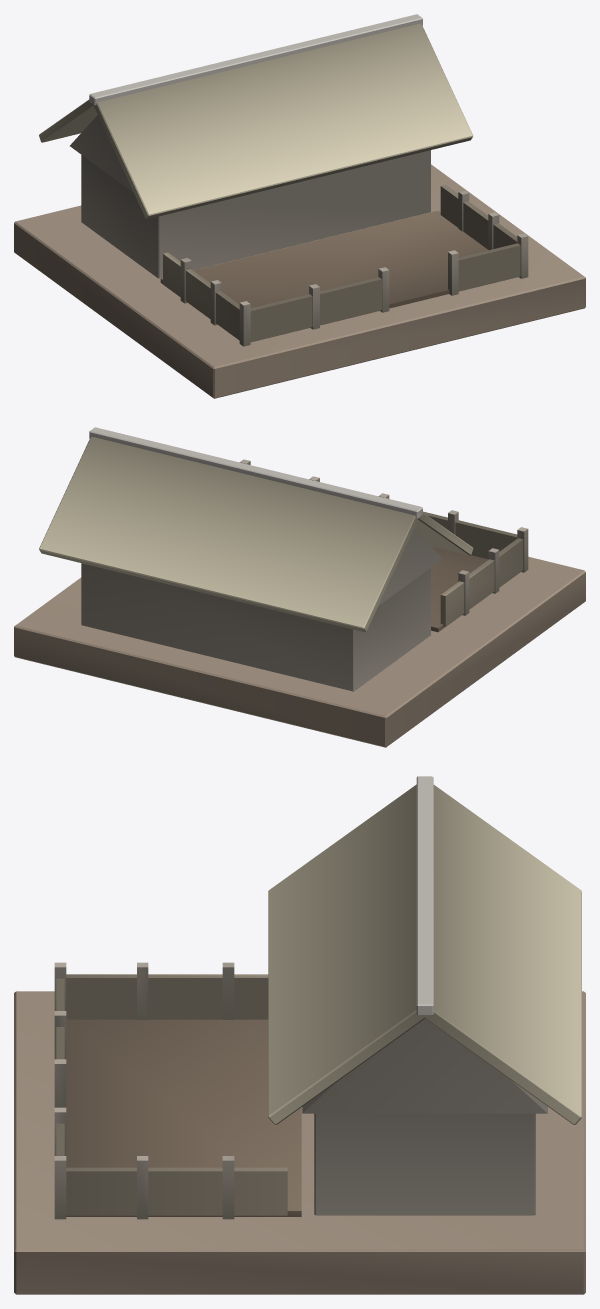
Rendered from pig_farm_l1_lod2.glb.
3 views of the same model, one above another, from view 1: azimuth 30°, elevation 25°; view 2: azimuth 150°, elevation 25°; view 3: azimuth 270°, elevation 25° (orthographic). The views are drawn at different scales.
Parts seen in each view (by area): view 1: pig_farm_l1_lod2; view 2: pig_farm_l1_lod2; view 3: pig_farm_l1_lod2.
Part boxes in pixels (x1,y1,x2,y2): pig_farm_l1_lod2: (14, 14, 585, 398); pig_farm_l1_lod2: (14, 427, 585, 747); pig_farm_l1_lod2: (14, 776, 585, 1294).
Bounding box in the file's own units: 8.6 × 4.25 × 8.
